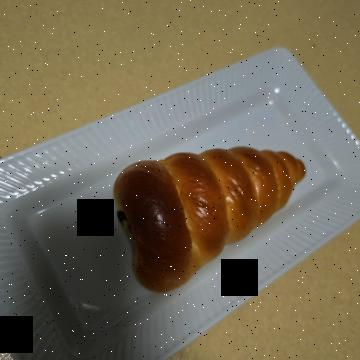cream horn: (127, 40, 311, 273)
